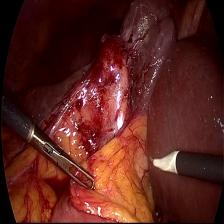Grasper: (30, 123, 99, 195)
Hook: (145, 148, 186, 176)
